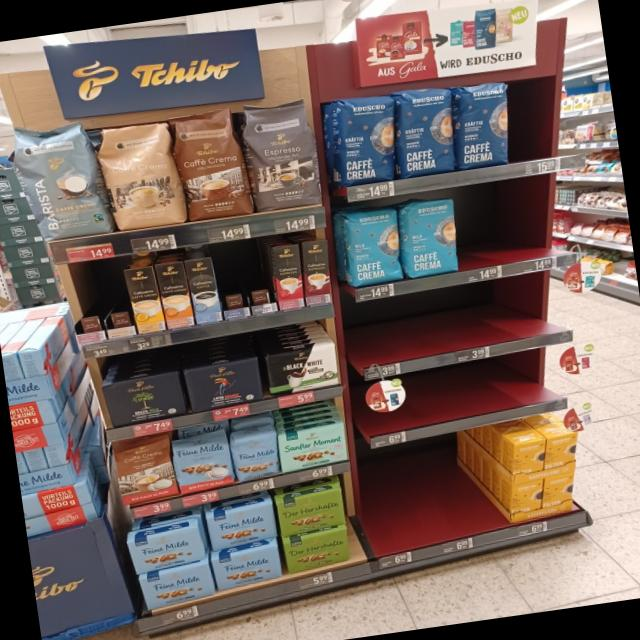BM Gemahlen: (100, 372, 188, 428)
BW Gemahlen: (264, 342, 344, 398)
Barista CC: (9, 118, 109, 244)
CC Mild: (94, 118, 186, 234)
CC Vollmundig: (114, 437, 180, 506)
CC Vollmundig 36 Pads: (169, 106, 253, 223)
Empty Shelf: (65, 272, 106, 333), (94, 270, 135, 330), (242, 246, 278, 307), (215, 250, 251, 310)
Espresso M Art: (238, 96, 324, 214)
FM 36 Pads: (169, 427, 236, 496)
FM Bohne: (230, 431, 282, 484)
FM Gemahlen: (126, 523, 207, 576), (138, 559, 218, 612), (205, 499, 279, 554), (211, 542, 284, 592)
Herzhatfe Mundig: (275, 487, 348, 539), (284, 526, 352, 573)
LG Gemahlen: (182, 356, 266, 413)
SM Gemahlen: (278, 423, 350, 472)
Simo CCMild bigpack: (154, 261, 196, 330)
Simo CCVollmundig bigpack: (124, 265, 166, 334)
Simo Es Brazil: (272, 243, 306, 311)
Simo Es Caramel: (301, 240, 332, 307)
Simo Es Vanilla: (185, 257, 224, 325)
